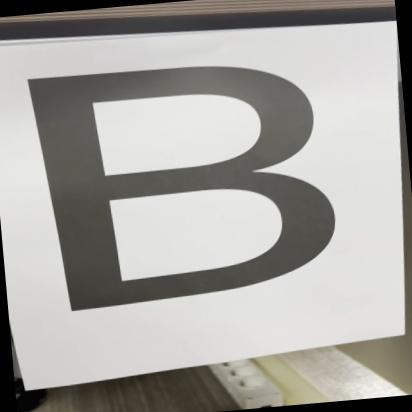seat: (6, 38, 356, 317)
